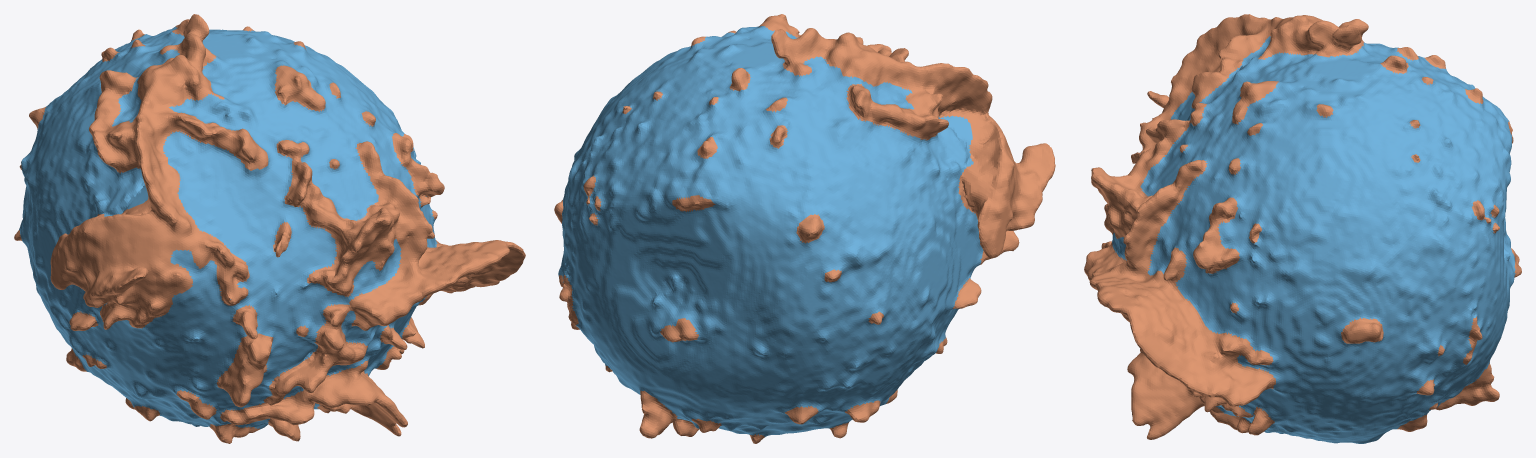
3 renders of one model, left to right at view 1: azimuth 30°, elevation 25°; view 2: azimuth 150°, elevation 25°; view 3: azimuth 270°, elevation 25°, orthographic. The views are drawn at different scales.
Bounding box in the file's own units: 167 × 156 × 158.
